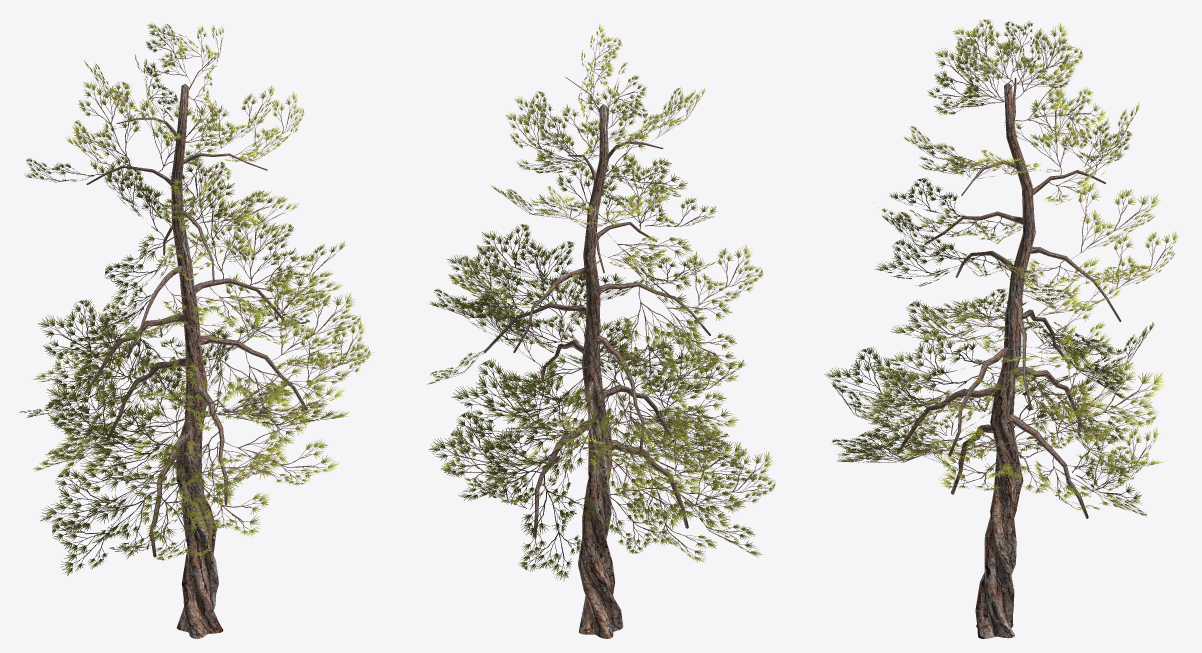
File: pine03.obj
3 renders of one model, left to right at view 1: azimuth 30°, elevation 25°; view 2: azimuth 150°, elevation 25°; view 3: azimuth 270°, elevation 25°, orthographic. The views are drawn at different scales.
Visible parts, largest first — view 1: tree; view 2: tree; view 3: tree.
Boxes of the visible parts, x1=… form: tree: x1=19, y1=22, x2=373, y2=638; tree: x1=427, y1=24, x2=775, y2=638; tree: x1=824, y1=19, x2=1179, y2=638.
Bounding box in the file's own units: 158 × 282 × 156.
Materials: 2 (2 with a texture image).
